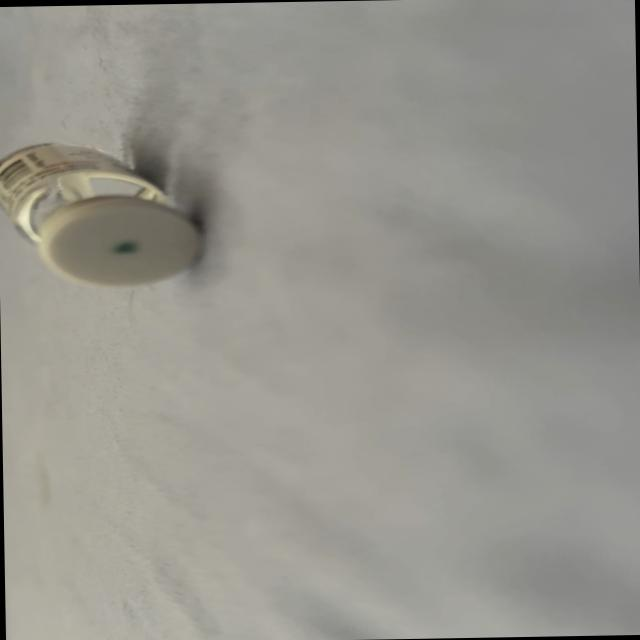fentanl_citrat: (0, 142, 200, 287)
